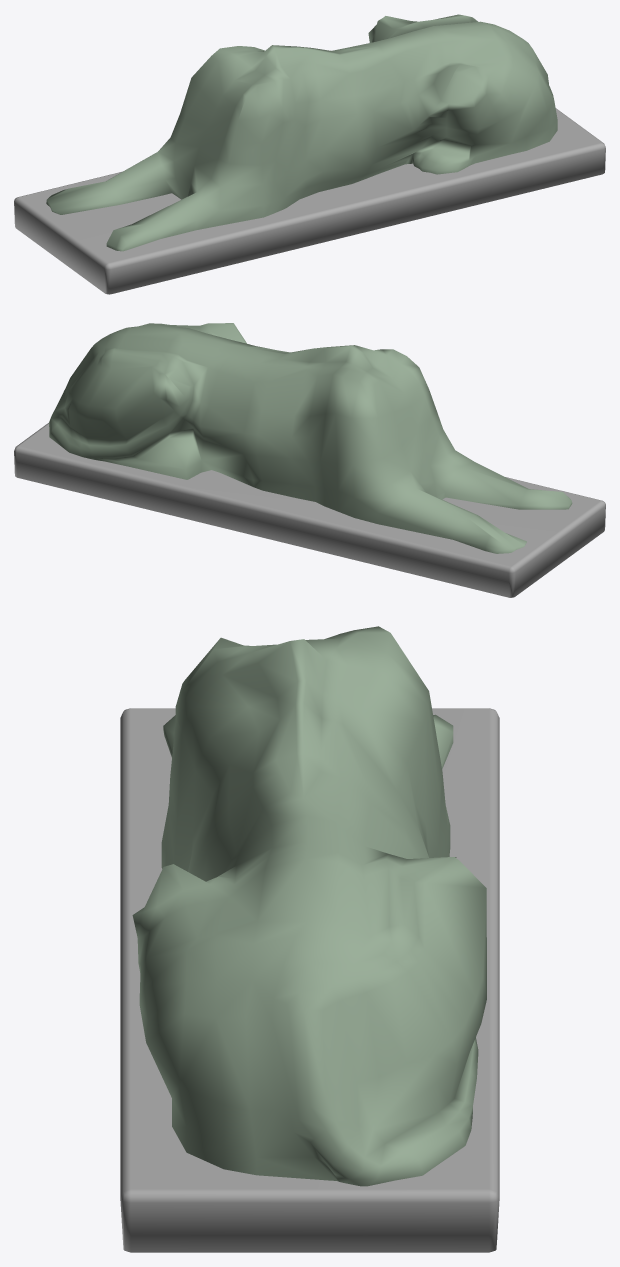
Rendered from ESFINGE_LOD1.fbx.
3 views of the same model, one above another, from view 1: azimuth 30°, elevation 25°; view 2: azimuth 150°, elevation 25°; view 3: azimuth 270°, elevation 25° (orthographic). The views are drawn at different scales.
Visible parts, largest first — view 1: pCube2; view 2: pCube2; view 3: pCube2.
Part boxes in pixels (left/top/right/bottom): pCube2: left=14, top=14, right=605, bottom=294; pCube2: left=14, top=323, right=605, bottom=597; pCube2: left=120, top=626, right=499, bottom=1252.
Bounding box in the file's own units: 1751 × 558 × 574.
